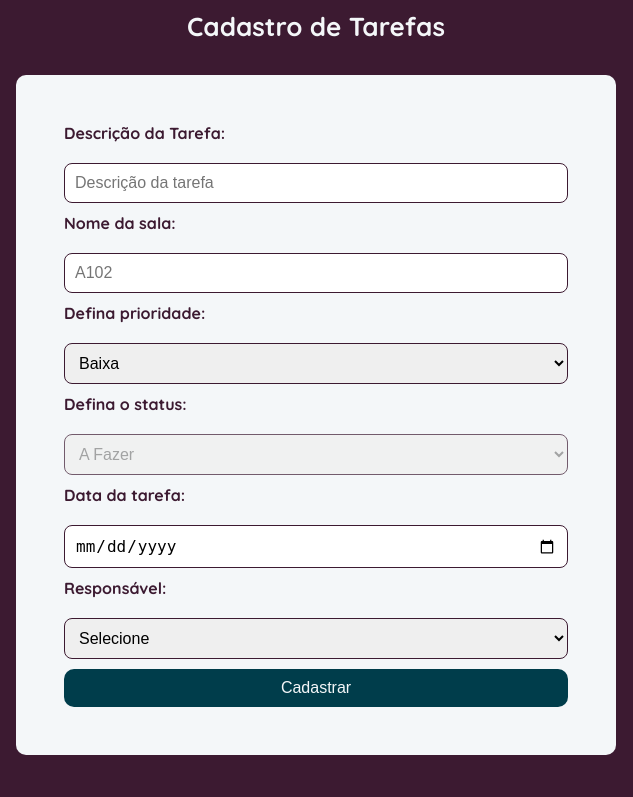
Test: Deve mostrar erro de inserir pelo meos 1 caracteres no campo de sala
The image size is (633, 797).
Type "teste" into the field labelled "Descrição da Tarefa:".
click(316, 183); type("teste")  # box [64, 163, 568, 203]
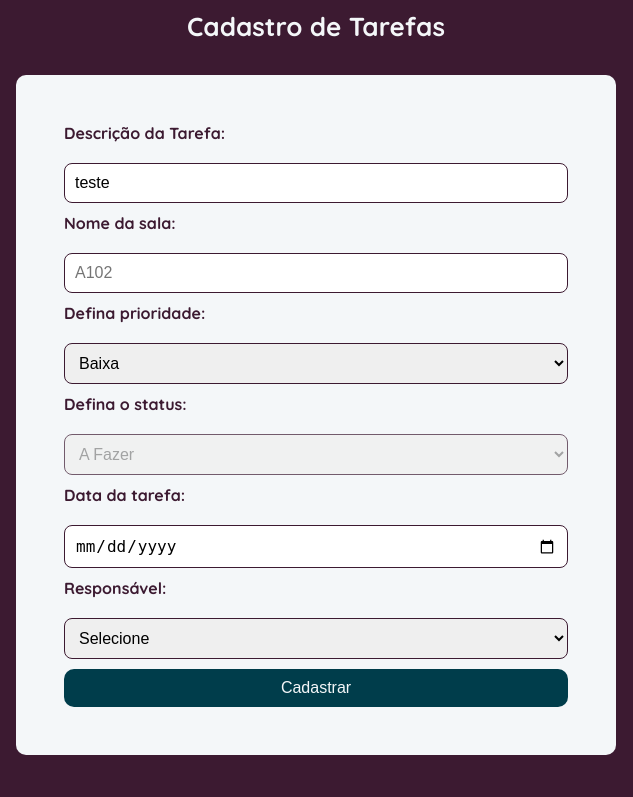
Type "2022-10-15" into the date field labelled "Data da tarefa:".
click(316, 546); type("2022-10-15")  # box [64, 525, 568, 568]
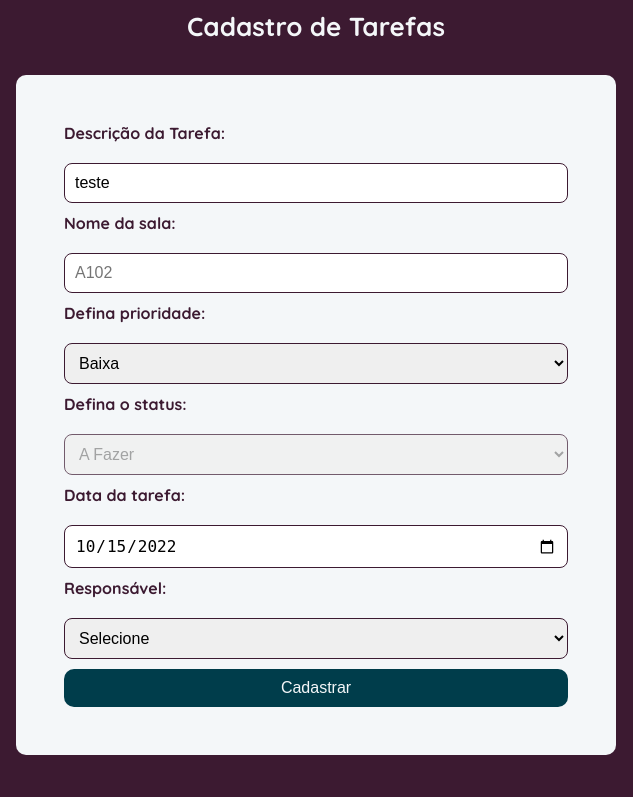
Select "Alta" in the dropdown labelled "Defina prioridade:" at point(316, 364), box [64, 343, 568, 384]
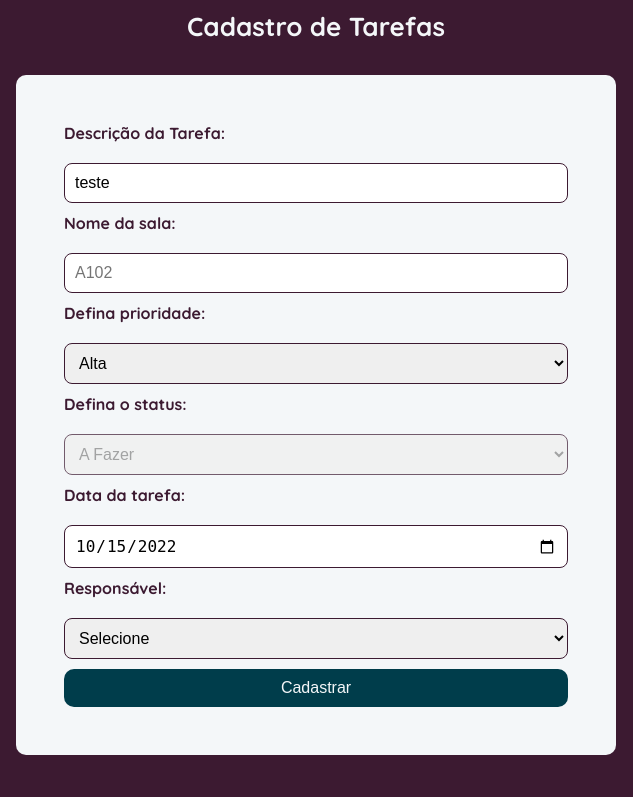
Select "A Fazer" in the dropdown labelled "Defina o status:" at point(316, 454), box [64, 434, 568, 475]
Select "15" in the dropdown labelled "Responsável:" at point(316, 638), box [64, 618, 568, 659]
Submit the form
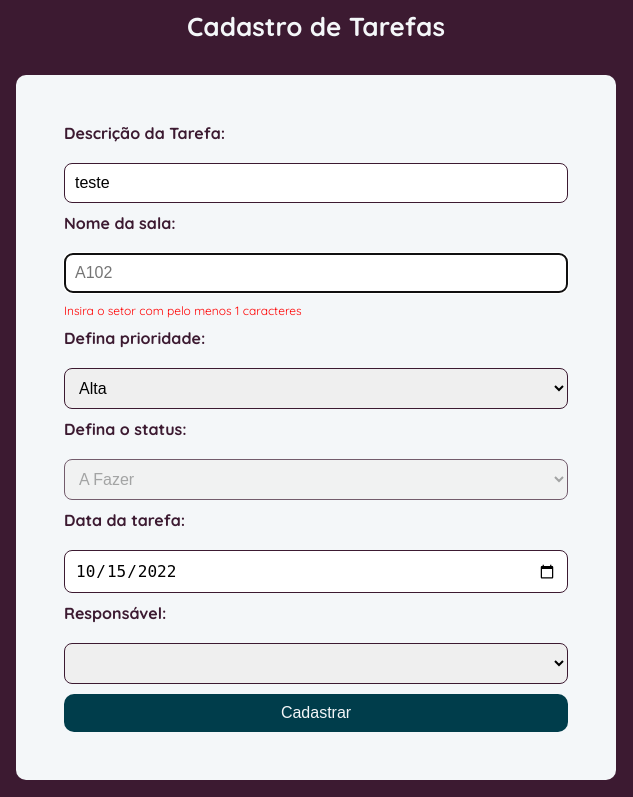
Expected: the text "Insira o setor com pelo menos 1 caracteres" is shown, [64, 303, 302, 318]
